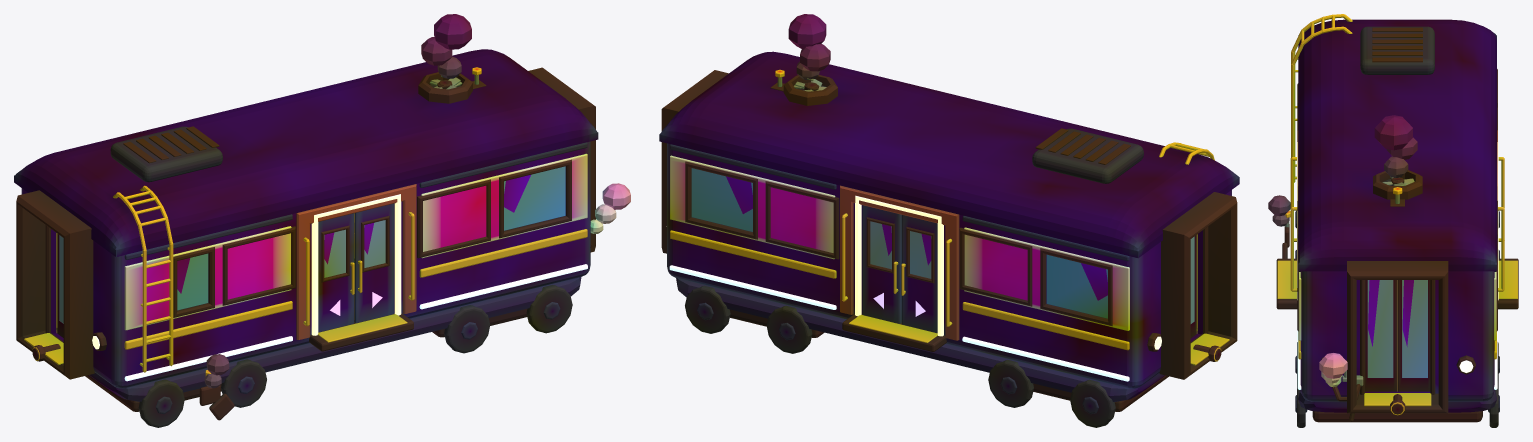
The model's file is FuturisticCoach_Blockout.glb.
3 views of the same model, side by side, from view 1: azimuth 30°, elevation 25°; view 2: azimuth 150°, elevation 25°; view 3: azimuth 270°, elevation 25° (orthographic). The views are drawn at different scales.
Parts seen in each view (by area): view 1: Roof, Body, Ends, Underframe, WindowBand, Windows, Livery, SideDoorLeaf_R, DoorPortal, SideDoorLeaf_L, SideDoorSill, RoofLadder (+5 smaller); view 2: Roof, Body, Underframe, Ends, Windows, WindowBand, Livery, SideDoorLeaf_R_Far, DoorPortal, SideDoorLeaf_L_Far, SideDoorSill_Far, Broken_Bits__Cooler (+2 smaller); view 3: Roof, Body, Ends, EndDoorLeaf_L_Front, EndDoorLeaf_R_Front, Underframe, Broken_Bits__Cooler, SideDoorSill, SideDoorSill_Far, RoofLadder, Broken_Bits__BrakeHose, Windows (+4 smaller).
Part boxes in pixels (<box>): Roof: <box>14,49,598,256</box>; Body: <box>21,141,590,388</box>; Ends: <box>16,67,595,379</box>; Underframe: <box>85,277,581,427</box>; WindowBand: <box>124,153,587,330</box>; Windows: <box>173,159,571,317</box>; Livery: <box>124,142,587,381</box>; SideDoorLeaf_R: <box>354,203,393,322</box>; DoorPortal: <box>296,184,416,339</box>; SideDoorLeaf_L: <box>318,213,354,332</box>; SideDoorSill: <box>303,212,414,351</box>; RoofLadder: <box>113,185,173,372</box>; Roof: <box>659,51,1239,258</box>; Body: <box>667,143,1231,388</box>; Underframe: <box>676,278,1168,427</box>; Ends: <box>661,70,1237,379</box>; Windows: <box>685,161,1112,326</box>; WindowBand: <box>670,155,1129,330</box>; Livery: <box>669,144,1129,381</box>; SideDoorLeaf_R_Far: <box>862,205,901,323</box>; DoorPortal: <box>840,185,959,340</box>; SideDoorLeaf_L_Far: <box>901,215,937,332</box>; SideDoorSill_Far: <box>842,213,952,351</box>; Broken_Bits__Cooler: <box>788,14,830,91</box>; Roof: <box>1298,19,1496,271</box>; Body: <box>1300,271,1494,401</box>; Ends: <box>1321,261,1475,413</box>; EndDoorLeaf_L_Front: <box>1365,280,1397,391</box>; EndDoorLeaf_R_Front: <box>1398,280,1430,391</box>; Underframe: <box>1295,210,1499,427</box>; Broken_Bits__Cooler: <box>1374,115,1417,185</box>; SideDoorSill: <box>1276,157,1297,309</box>; SideDoorSill_Far: <box>1498,157,1518,309</box>; RoofLadder: <box>1291,14,1352,182</box>; Broken_Bits__BrakeHose: <box>1319,353,1360,421</box>; Windows: <box>1297,69,1497,331</box>.
Bounding box in the file's own units: 8.45 × 4.21 × 3.35.
